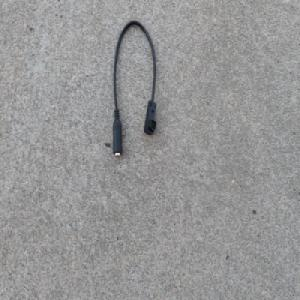Wire: (111, 17, 158, 160)
